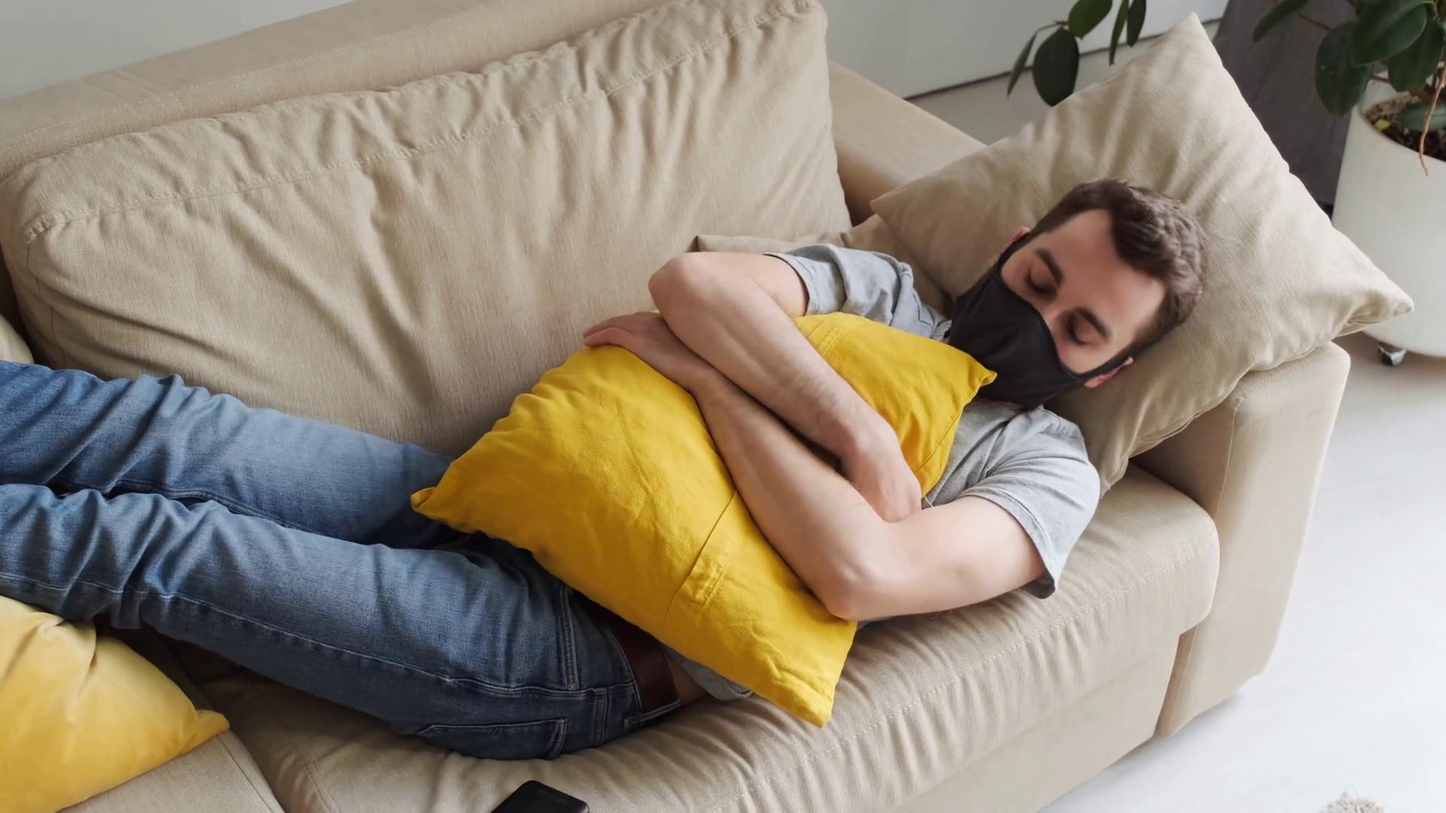OK: (963, 221, 1163, 402)
